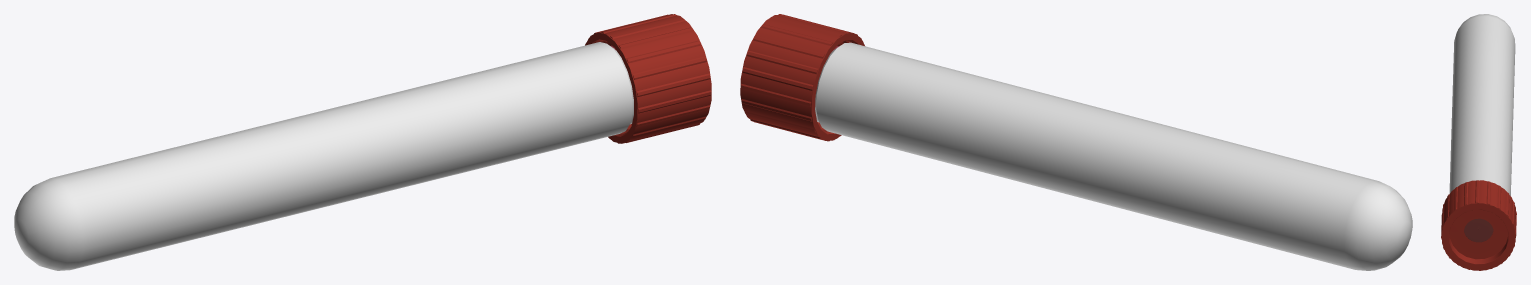
The picture shows the model from 3 angles, left to right: view 1: azimuth 30°, elevation 25°; view 2: azimuth 150°, elevation 25°; view 3: azimuth 270°, elevation 25°; orthographic projection. The views are drawn at different scales.
Visible parts, largest first — view 1: Collection Tube; view 2: Collection Tube; view 3: Collection Tube.
Part boxes in pixels (x1,y1,x2,y2): Collection Tube: (14, 14, 711, 270); Collection Tube: (740, 14, 1412, 270); Collection Tube: (1441, 14, 1516, 270).
Size of the model in its own units: 8.01 by 1.22 by 1.22.
